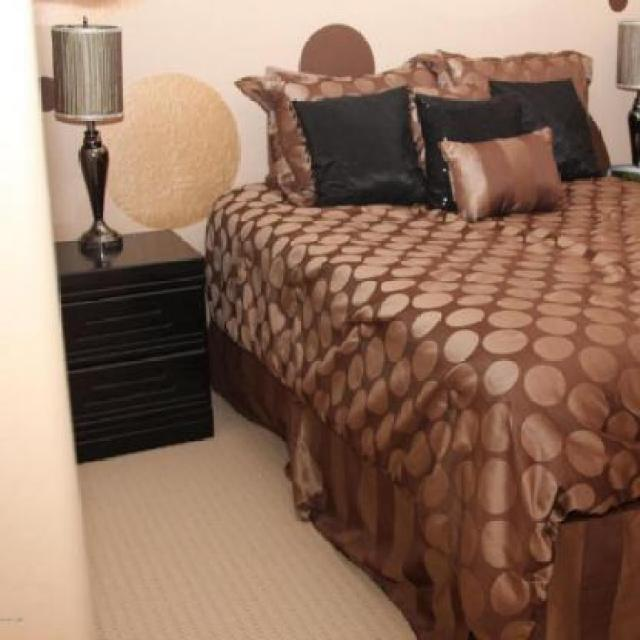Floor: (78, 385, 418, 639)
